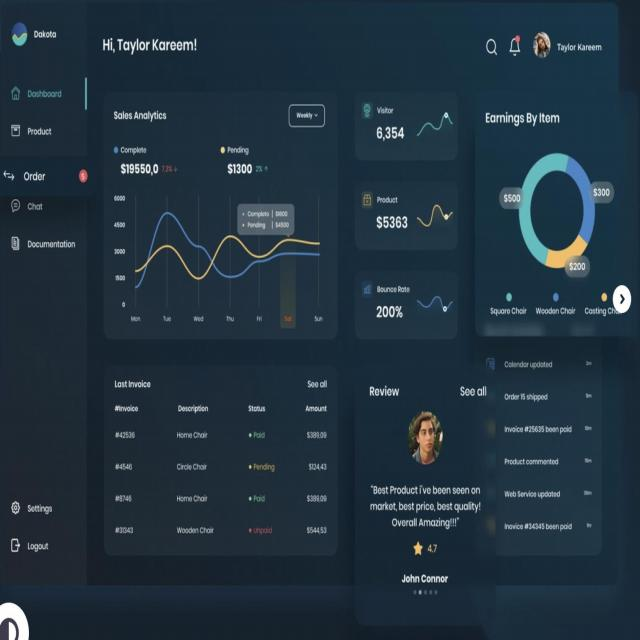button: (6, 533, 57, 557), (6, 498, 58, 520), (482, 32, 500, 60), (506, 34, 524, 59)
select: (289, 104, 325, 128)
